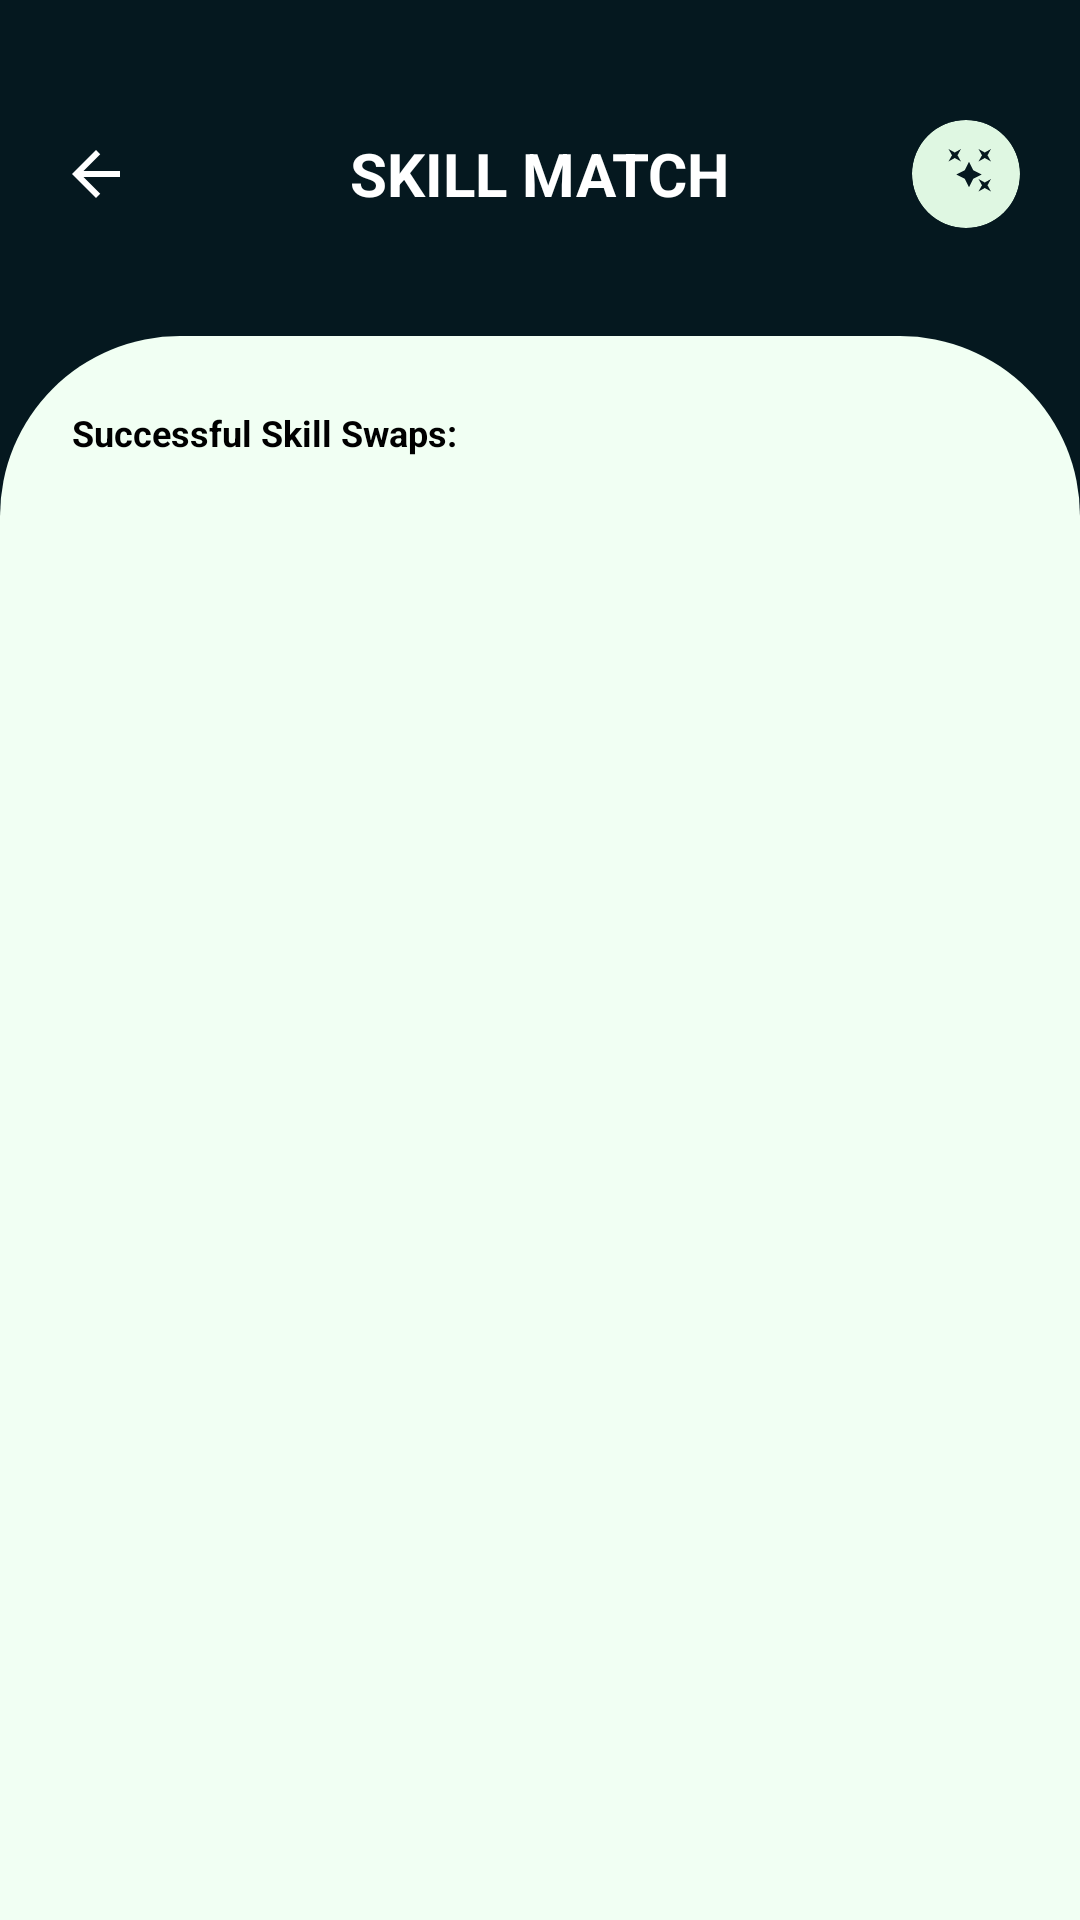

Where to tap for icons on this 1080*1920 app screen, as (x,y):
ai stars: (969,170)
